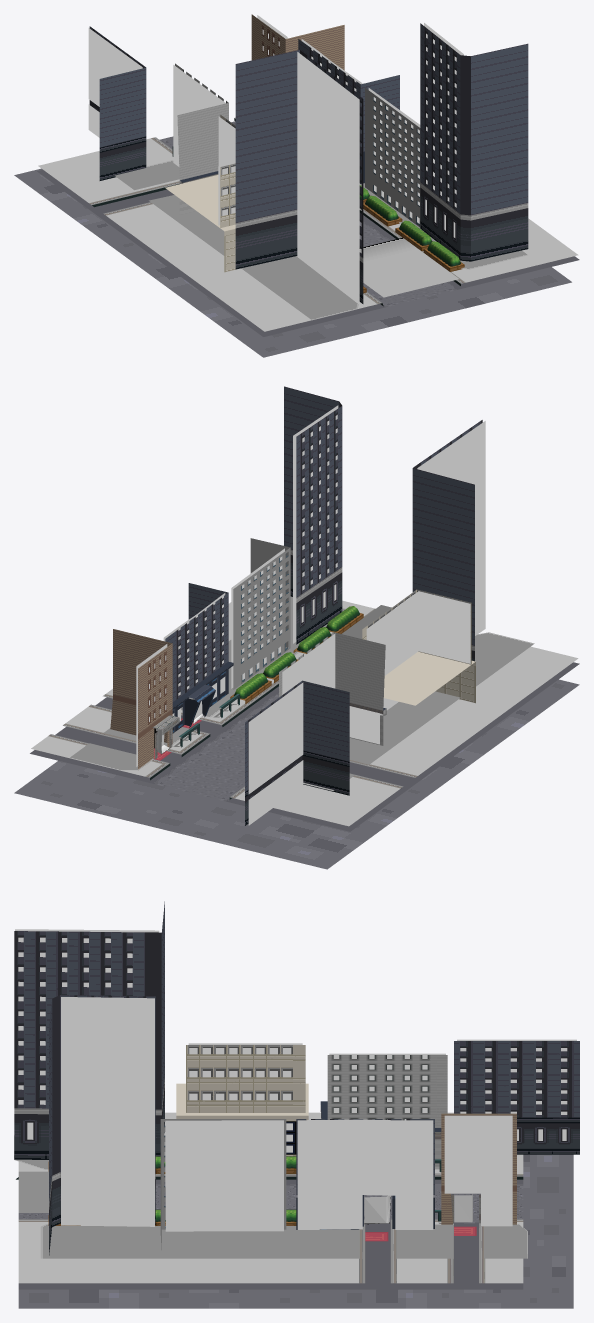
The picture shows the model from 3 angles, top to bottom: view 1: azimuth 30°, elevation 25°; view 2: azimuth 150°, elevation 25°; view 3: azimuth 270°, elevation 25°; orthographic projection. The views are drawn at different scales.
Visible parts, largest first — view 1: polygon10, polygon6, polygon19, polygon2, polygon11, polygon5, polygon17, polygon1, polygon0, polygon7, polygon18, polygon13 (+5 smaller); view 2: polygon10, polygon6, polygon2, polygon19, polygon5, polygon1, polygon17, polygon18, polygon11, polygon13, polygon7, polygon9 (+2 smaller); view 3: polygon6, polygon10, polygon2, polygon5, polygon19, polygon7, polygon12, polygon1, polygon11, polygon9, polygon18, polygon0 (+5 smaller).
Part boxes in pixels (box(x1,y1,x2,y2)): polygon10: box(89, 23, 528, 257); polygon6: box(88, 15, 463, 304); polygon19: box(38, 138, 578, 331); polygon2: box(14, 121, 571, 357); polygon11: box(89, 100, 528, 303); polygon5: box(115, 160, 527, 320); polygon17: box(365, 88, 420, 227); polygon1: box(37, 123, 579, 336); polygon0: box(359, 237, 458, 297); polygon7: box(175, 63, 228, 214); polygon18: box(251, 14, 344, 70); polygon13: box(165, 175, 237, 272); polygon10: box(165, 386, 482, 791); polygon6: box(136, 405, 485, 825); polygon2: box(14, 679, 579, 869); polygon19: box(31, 600, 578, 826); polygon5: box(70, 596, 534, 790); polygon1: box(30, 662, 579, 831); polygon17: box(233, 538, 290, 689); polygon18: box(110, 629, 172, 769); polygon11: box(245, 555, 474, 825); polygon13: box(383, 651, 475, 705); polygon7: box(279, 632, 385, 745); polygon9: box(48, 608, 417, 798); polygon6: box(15, 929, 576, 1231); polygon10: box(14, 901, 579, 1203); polygon2: box(18, 1154, 573, 1308); polygon5: box(14, 1135, 527, 1258); polygon19: box(18, 1112, 523, 1283); polygon7: box(327, 1055, 447, 1166); polygon12: box(186, 1045, 305, 1112); polygon1: box(18, 1179, 523, 1289); polygon11: box(14, 1084, 579, 1255); polygon9: box(18, 1105, 523, 1283); polygon18: box(441, 1113, 516, 1224); polygon0: box(18, 1171, 48, 1212).
Bounding box in the file's own units: 8.06 × 5.75 × 11.22.
